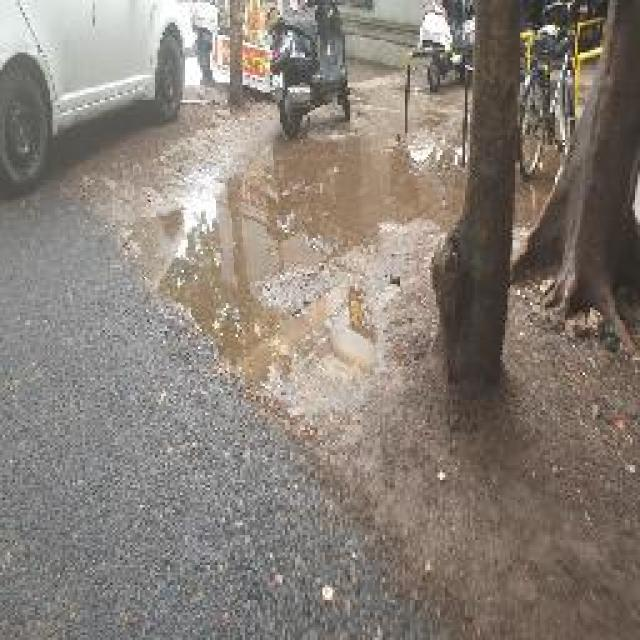puddle: (137, 137, 447, 413)
